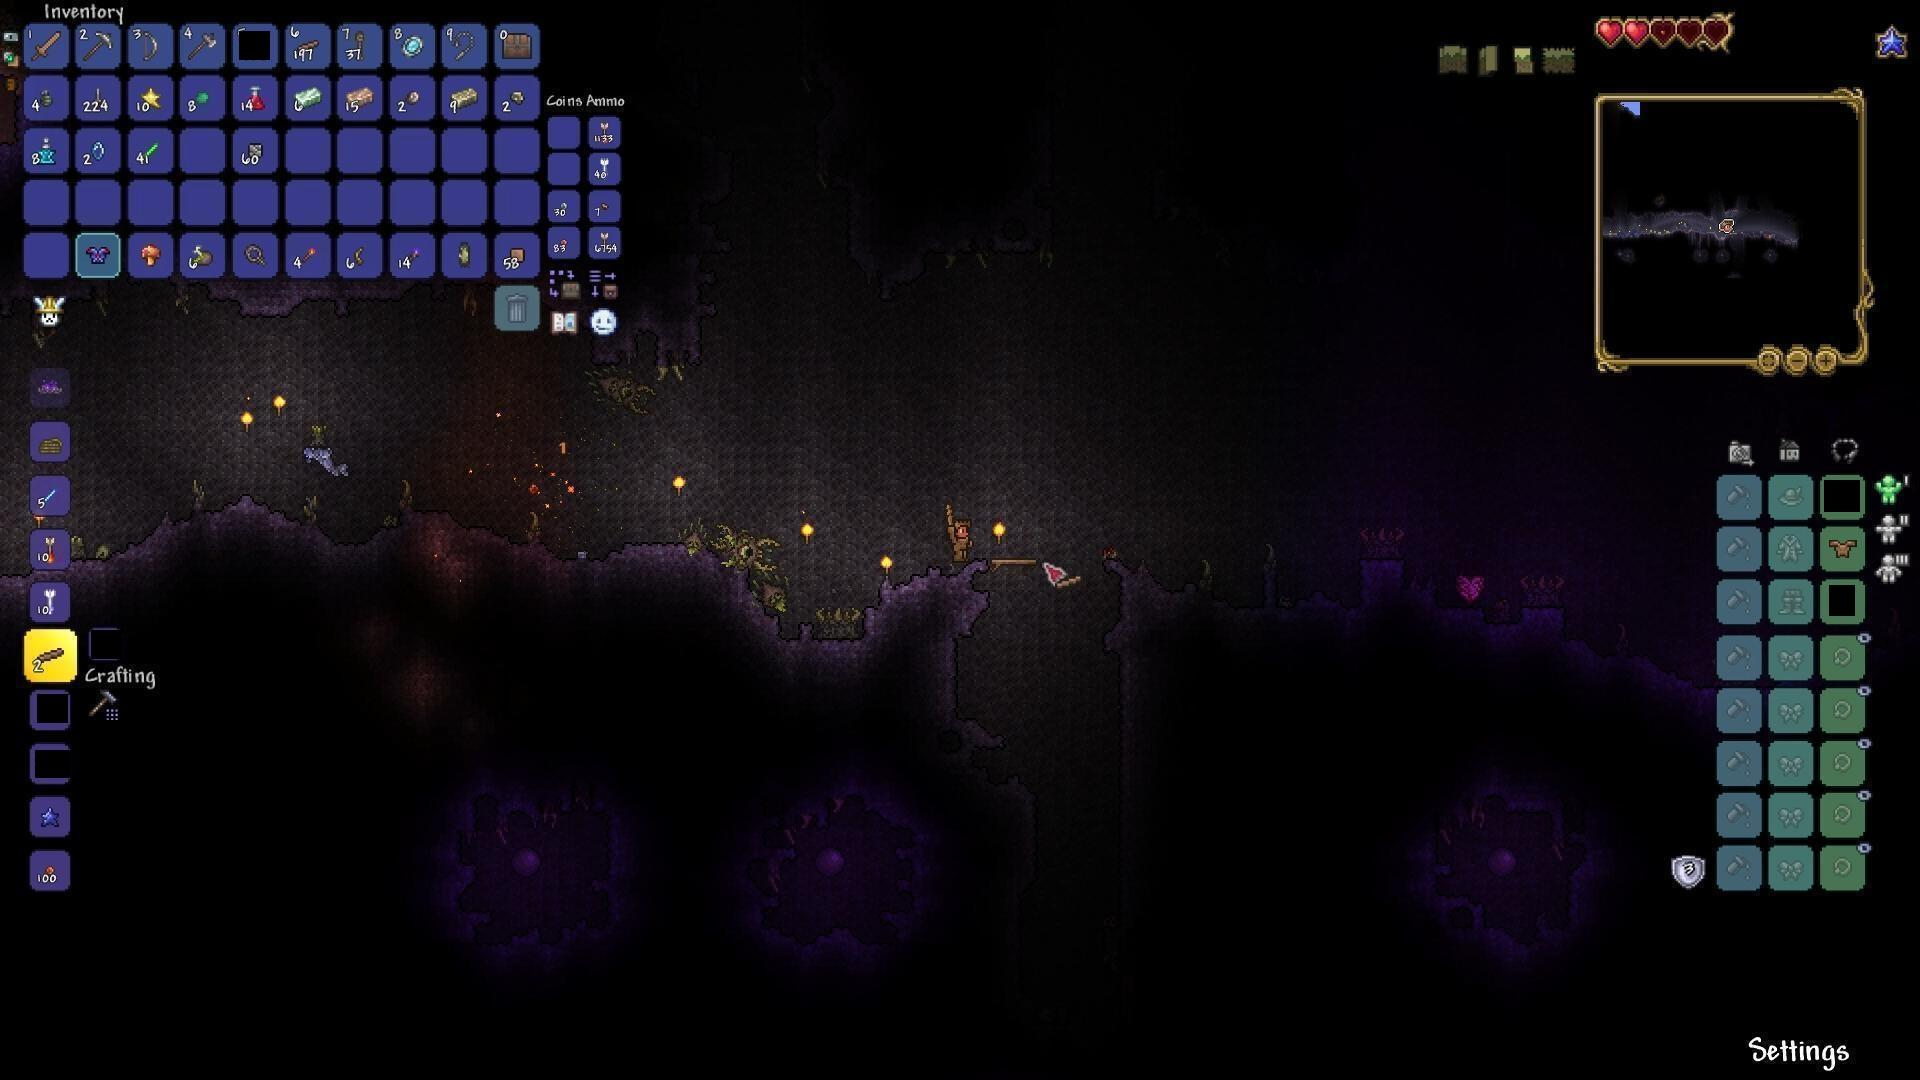breastplate: (82, 241, 113, 268), (1829, 535, 1859, 558)
